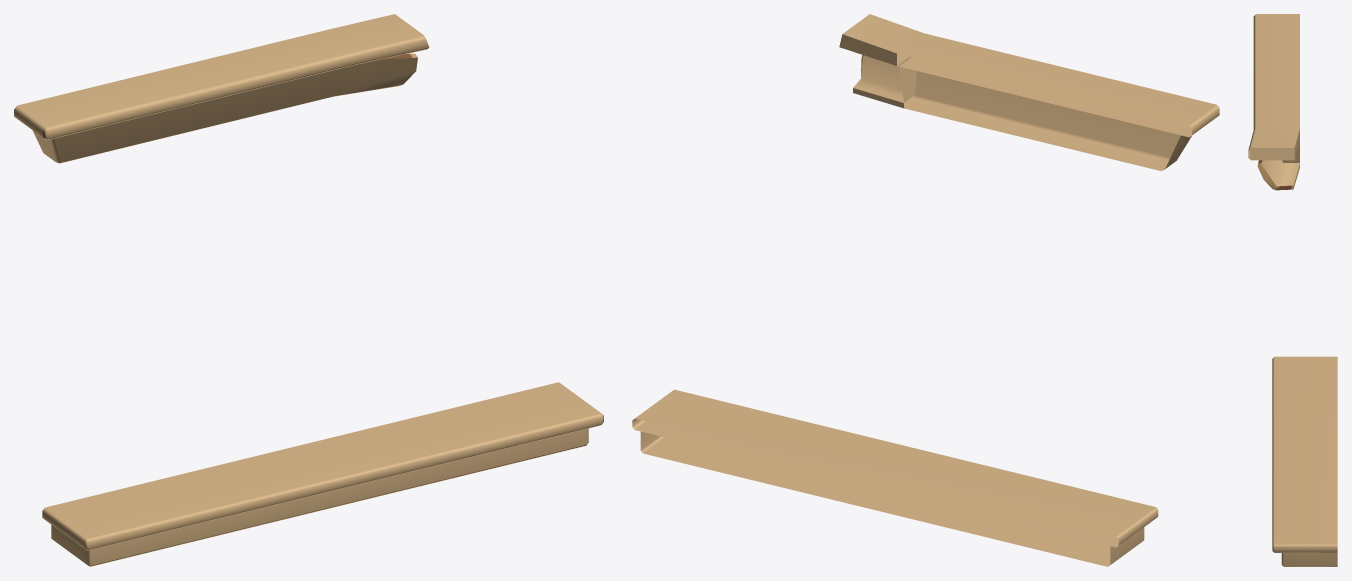
Rendered from DBK_WinDouble_Trim_E_90.fbx.
3 renders of one model, left to right at view 1: azimuth 30°, elevation 25°; view 2: azimuth 150°, elevation 25°; view 3: azimuth 270°, elevation 25°, orthographic. The views are drawn at different scales.
Visible parts, largest first — view 1: DBK_WinDouble_Trim_E_90; view 2: DBK_WinDouble_Trim_E_90; view 3: DBK_WinDouble_Trim_E_90.
Part boxes in pixels (x1,y1,x2,y2): DBK_WinDouble_Trim_E_90: (14, 14, 603, 566); DBK_WinDouble_Trim_E_90: (632, 14, 1219, 566); DBK_WinDouble_Trim_E_90: (1248, 14, 1337, 566).
Bounding box in the file's own units: 200 × 158 × 36.3.
